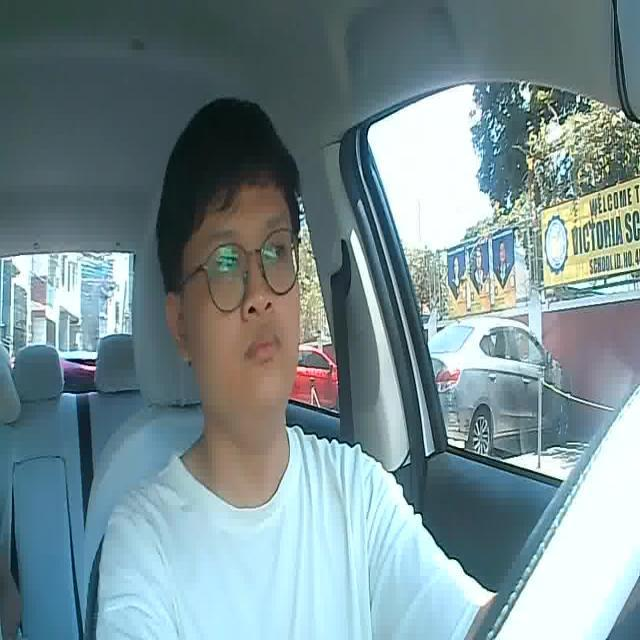Attentive: (158, 98, 306, 410)
Eye-Open: (214, 248, 247, 274), (268, 238, 292, 264)
Normal: (245, 331, 282, 366)
